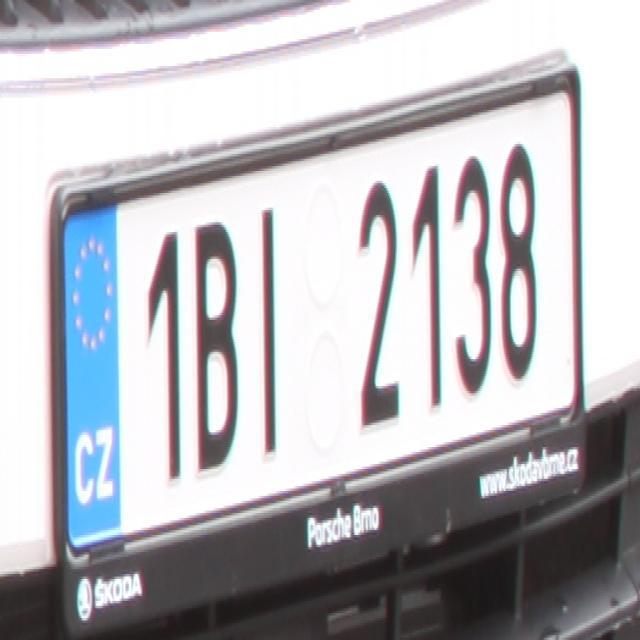1: (146, 232, 182, 481), (408, 166, 444, 410)
2: (356, 181, 401, 427)
3: (452, 154, 490, 391)
8: (501, 144, 537, 384)
B: (192, 217, 240, 469)
